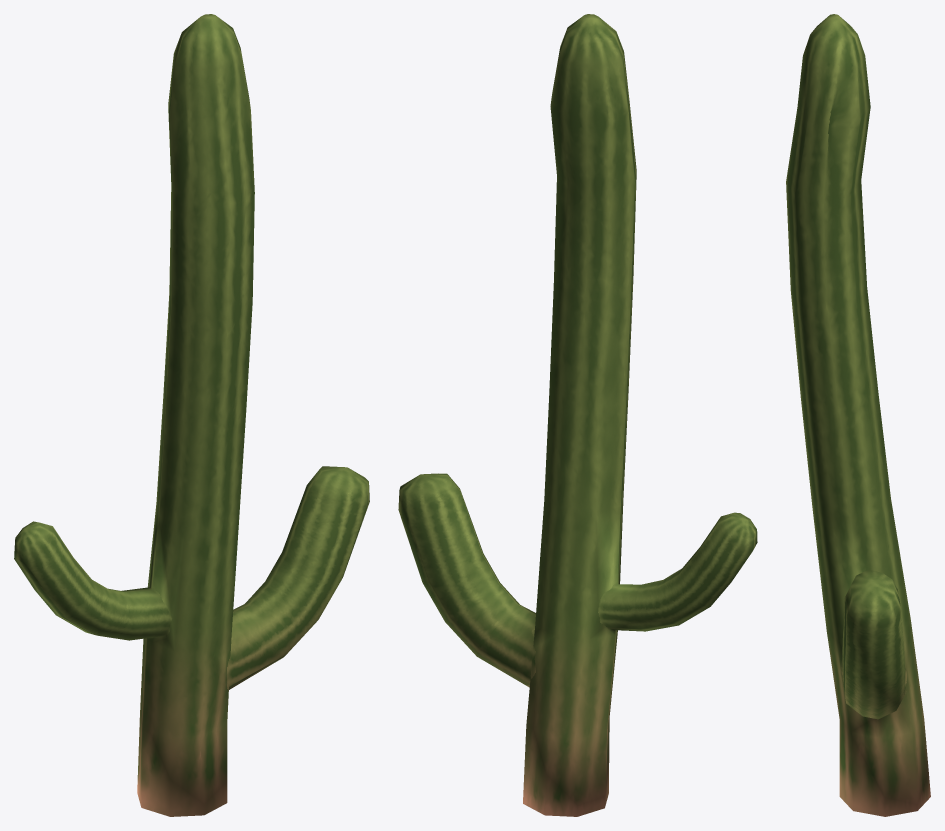
Rendered from cactus_7.glb.
The picture shows the model from 3 angles, left to right: view 1: azimuth 30°, elevation 25°; view 2: azimuth 150°, elevation 25°; view 3: azimuth 270°, elevation 25°; orthographic projection. The views are drawn at different scales.
Parts seen in each view (by area): view 1: cactus_7_cacturs_7_0; view 2: cactus_7_cacturs_7_0; view 3: cactus_7_cacturs_7_0.
Part boxes in pixels (left/top/right/bottom): cactus_7_cacturs_7_0: left=14, top=14, right=369, bottom=816; cactus_7_cacturs_7_0: left=398, top=14, right=757, bottom=816; cactus_7_cacturs_7_0: left=786, top=14, right=930, bottom=816.
Size of the model in its own units: 1.94 by 4.11 by 0.6929.
1 material, 1 textured.
